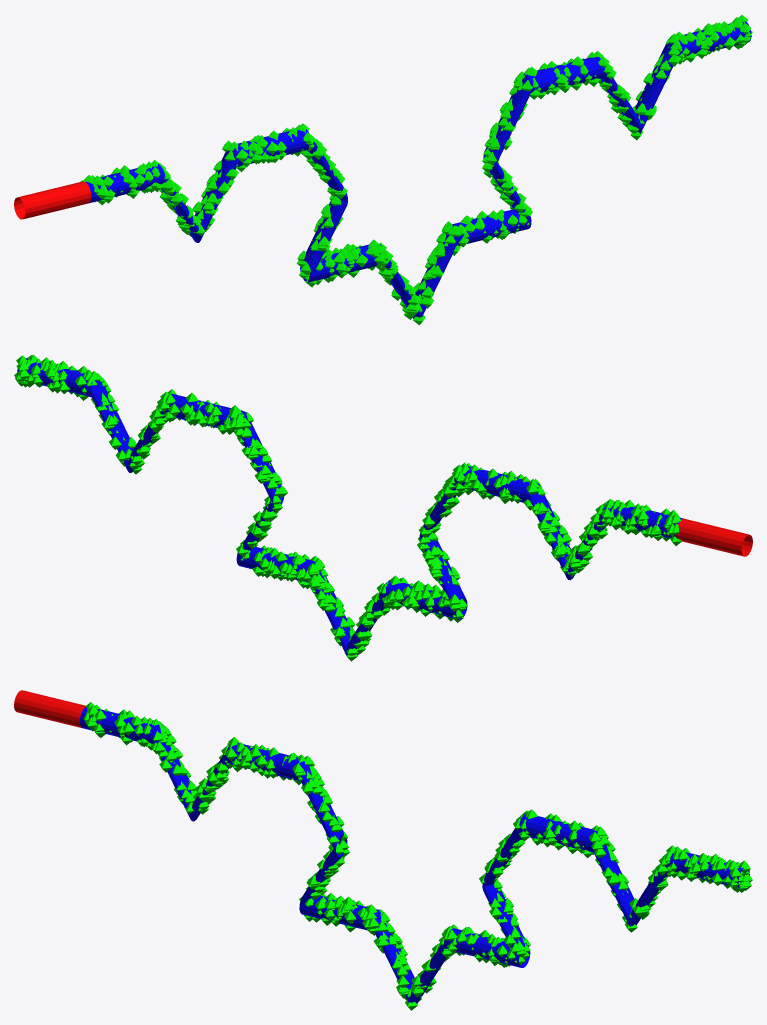
The model's file is try_0.obj.
The picture shows the model from 3 angles, top to bottom: view 1: azimuth 30°, elevation 25°; view 2: azimuth 150°, elevation 25°; view 3: azimuth 330°, elevation 25°; orthographic projection.
Parts seen in each view (by area): view 1: material_g, material_b, material_r; view 2: material_g, material_b, material_r; view 3: material_g, material_b, material_r.
Part boxes in pixels (x1,y1,x2,y2): material_g: (80,15,752,325); material_b: (86,21,751,318); material_r: (14,181,91,219); material_g: (14,354,682,661); material_b: (17,358,683,655); material_r: (676,518,752,556); material_g: (83,702,752,1010); material_b: (80,707,749,1003); material_r: (14,690,85,727).
Size of the model in its own units: 1108 by 330 by 49.5.
